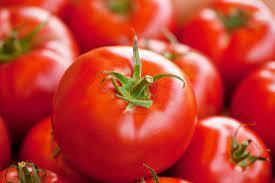healthy-tomato: (50, 43, 196, 182), (1, 7, 82, 138), (169, 117, 273, 183), (178, 1, 275, 68), (164, 31, 227, 119), (20, 118, 84, 183)
